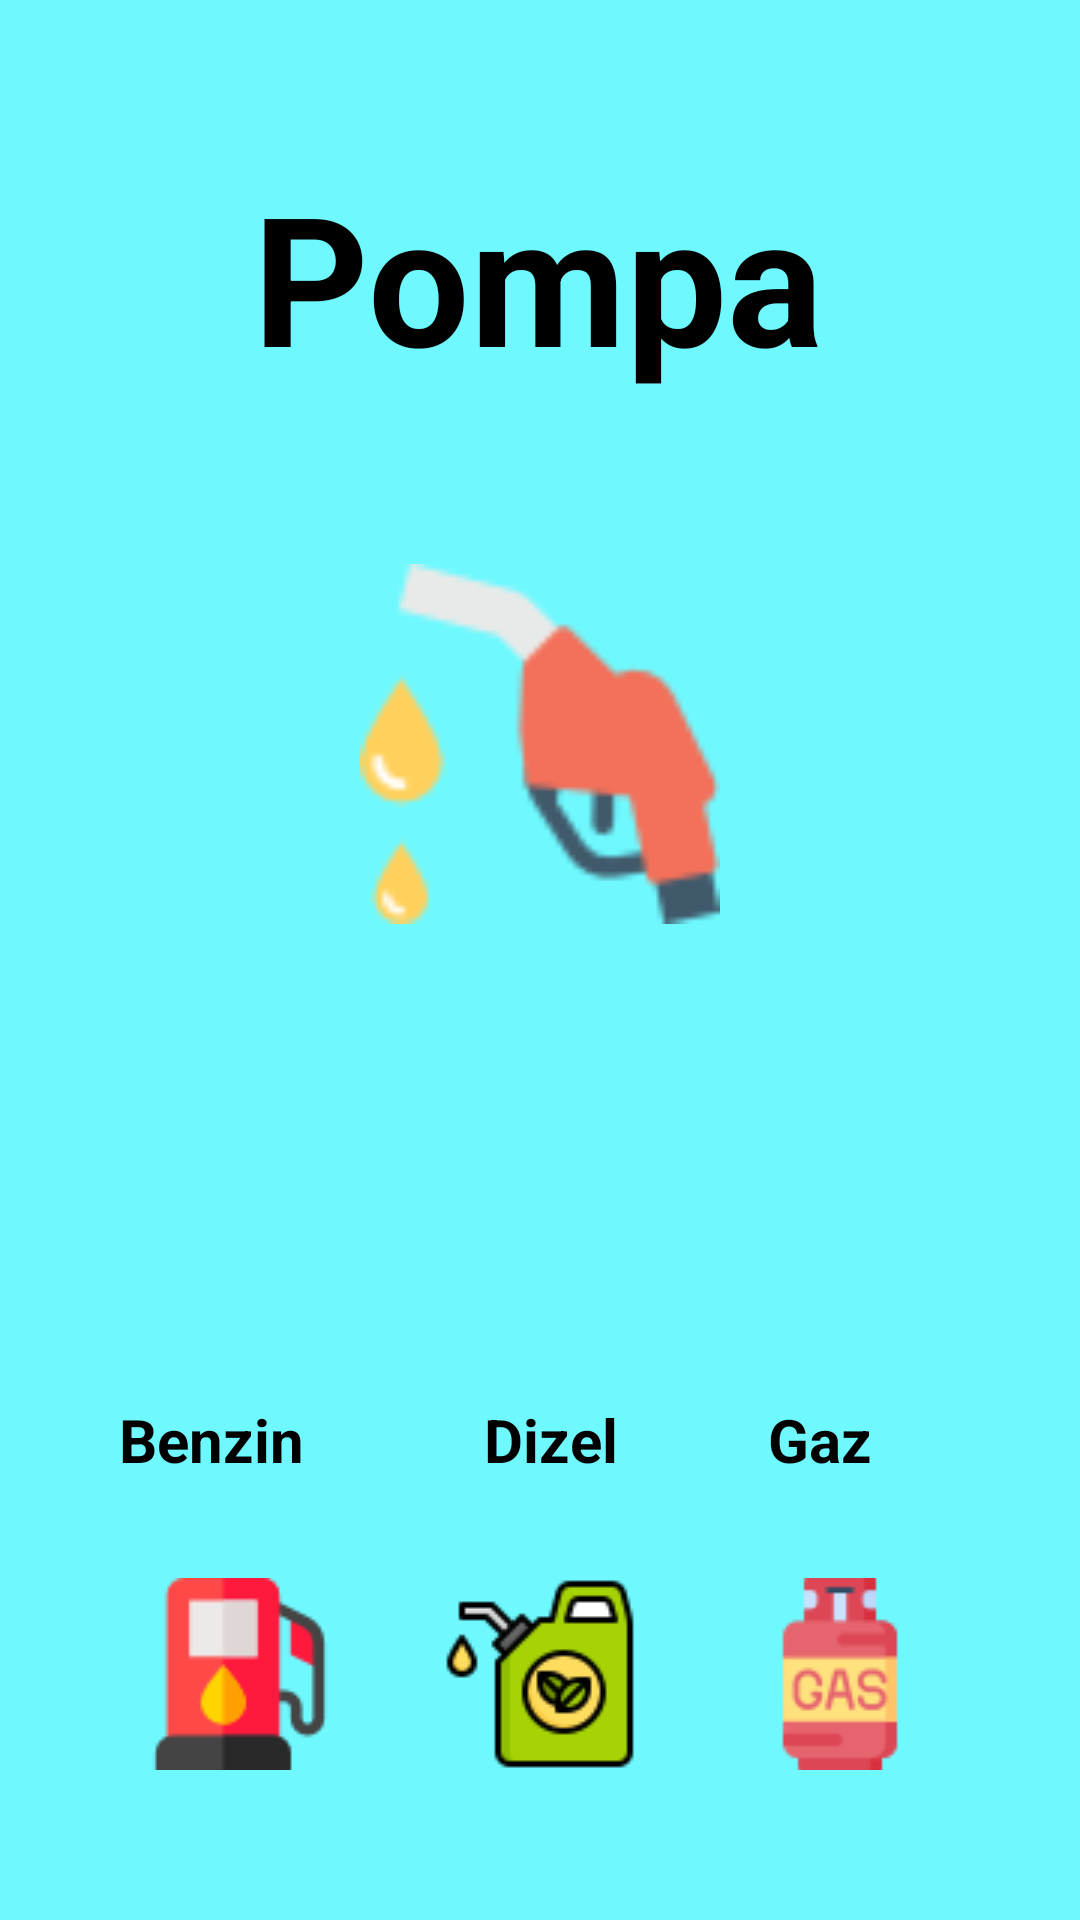

Named icons in this screenshot (1080×1920) and their centers, point (x, y):
diesel: point (540, 1674)
gasoline: point (240, 1674)
pump: point (540, 744)
